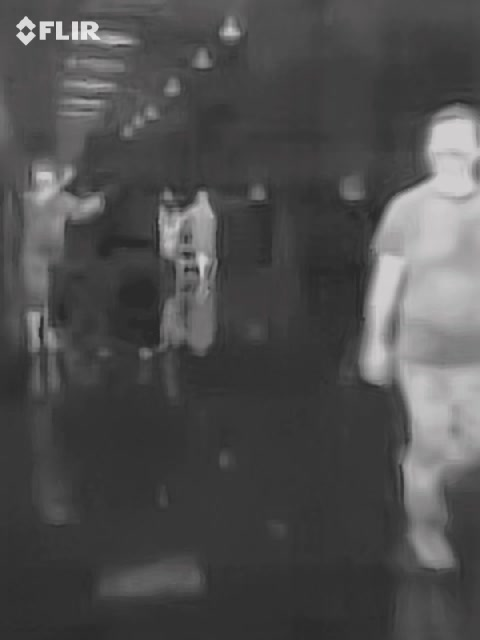head: (425, 101, 478, 186)
